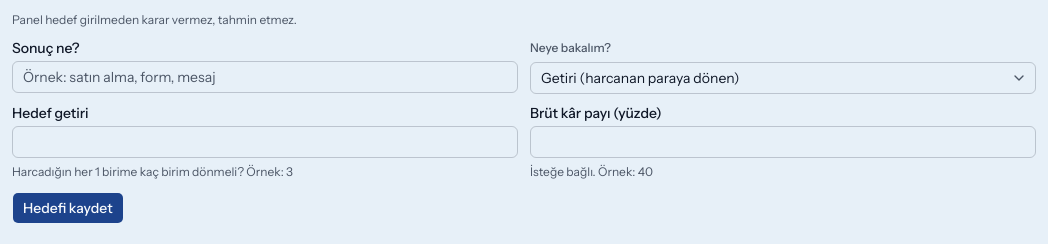
Test: GoalForm › geçersiz sayıda Türkçe hata gösterir ve action'ı çağırmaz
Click the field labelled "Sonuç ne?". click: (265, 77)
box: [12, 61, 518, 93]
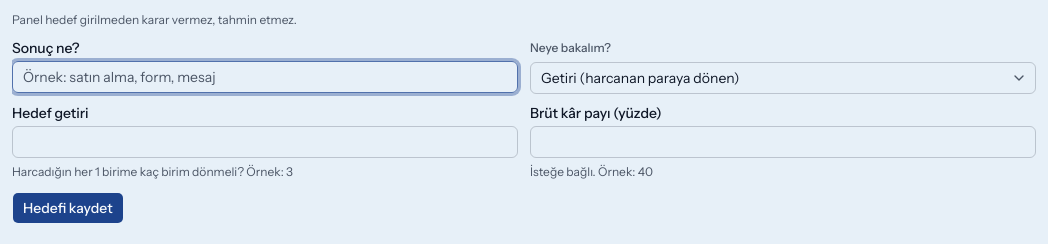
Type keys "satın alma"
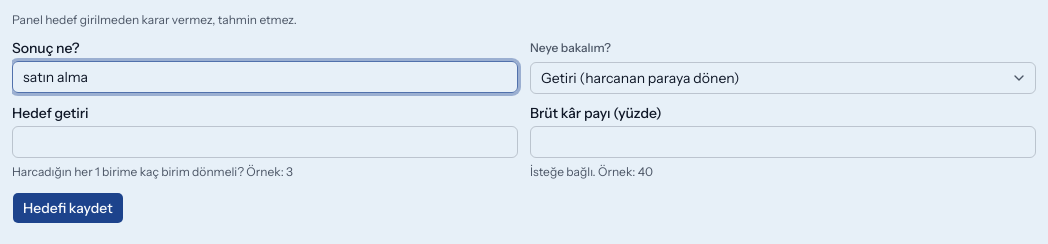
Click the field labelled "Hedef getiri". click: (265, 142)
box: [12, 126, 518, 158]
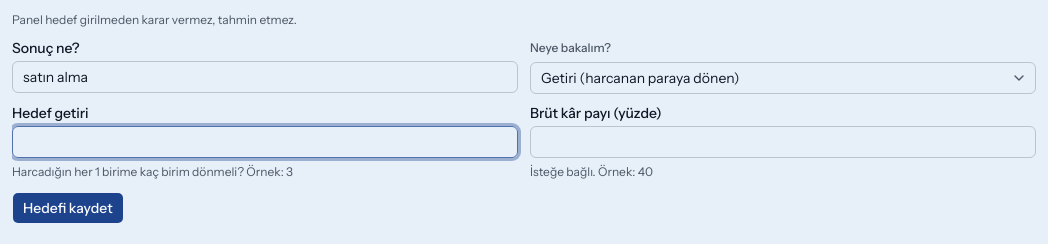
Type keys "abc"
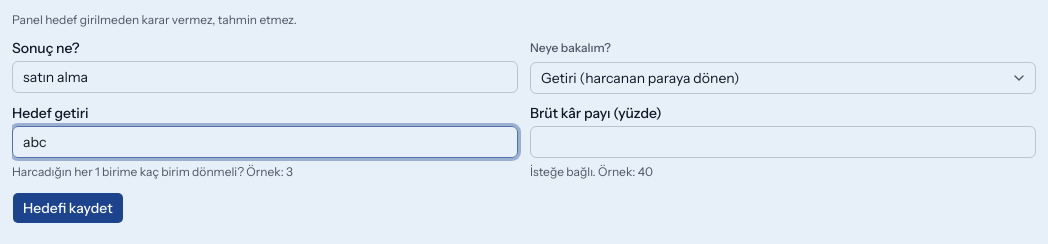
Click the button "Hedefi kaydet". click: (68, 208)
box: [12, 192, 124, 224]
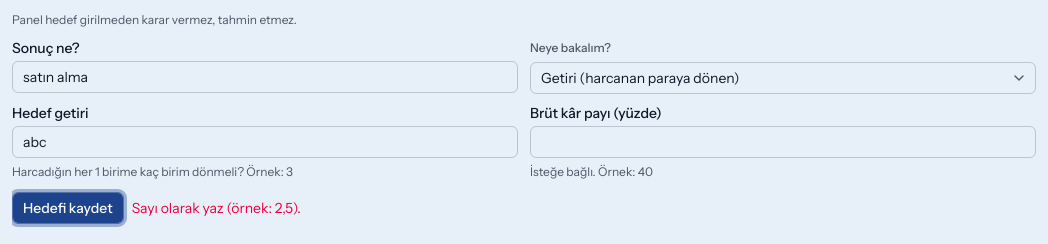
expect the message reads "Sayı olarak yaz (örnek: 2,5).": met, box [132, 199, 301, 217]
